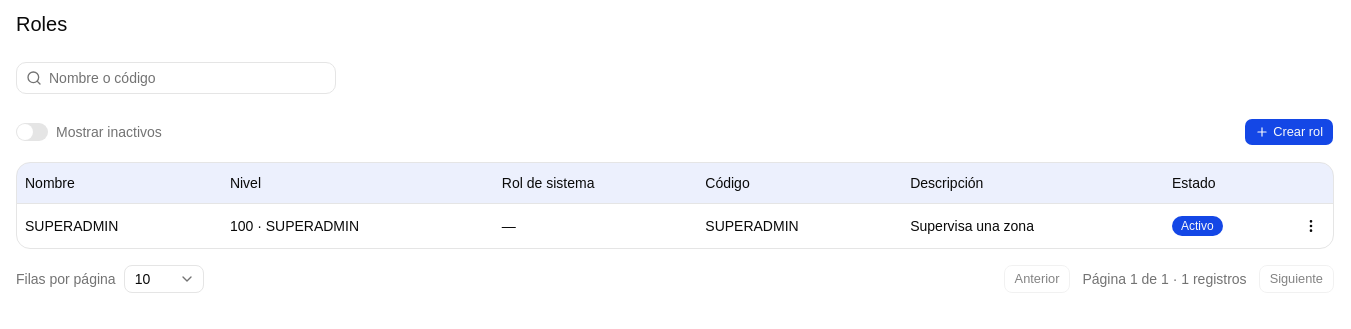
Test case: AppRoleListPage — roles de sistema y ciclo de vida › el rol SUPERADMIN no ofrece retirar ni al superadministrador
The width and height of the screenshot is (1351, 329).
Click the button named "Acciones de la fila" at (1311, 226), box [1297,212,1325,240]
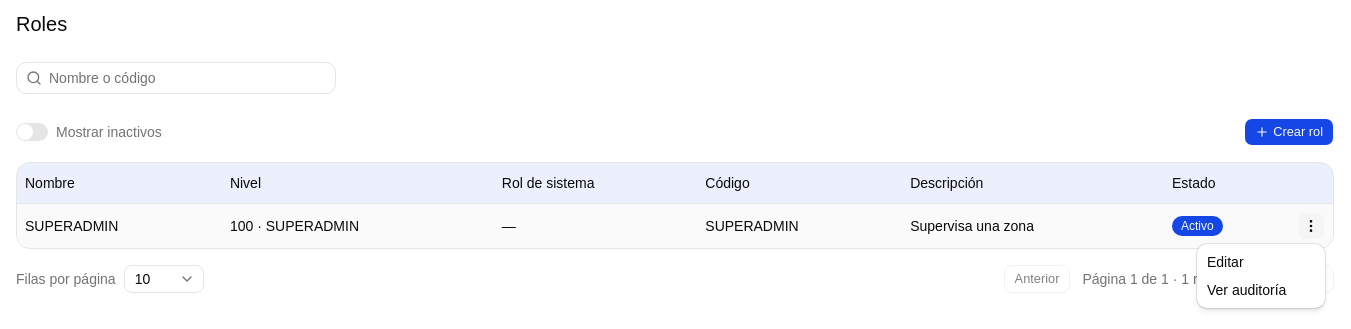
Result: the menu item "Editar" is shown at [1207,254,1244,270]
